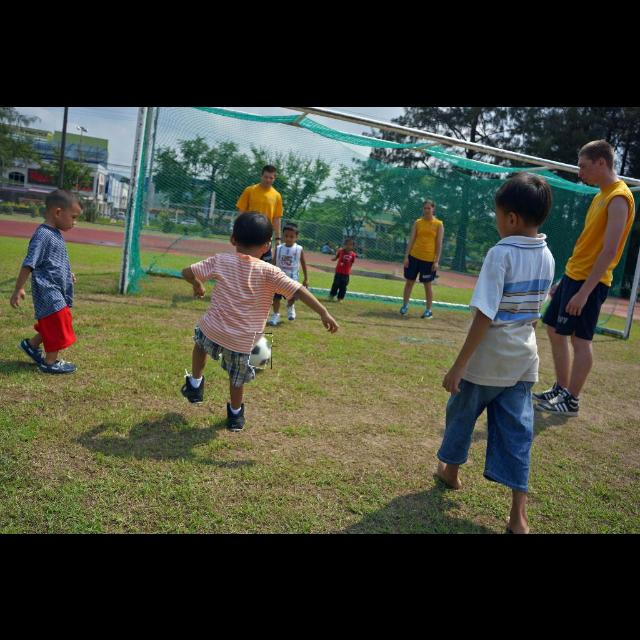Football: (250, 333, 272, 369)
